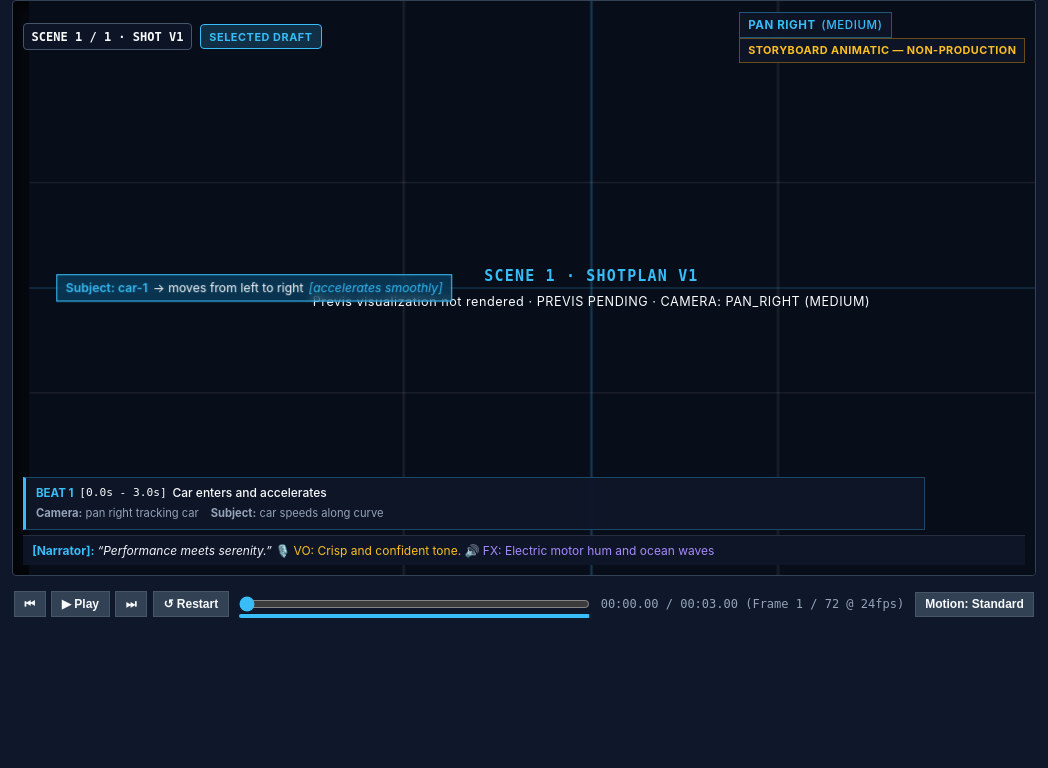
Test: CampaignAnimaticPlayer Component › toggles reduced motion mode
Click the button with test id "animatic-reduced-motion-toggle" at (974, 604), box [915, 592, 1034, 617]
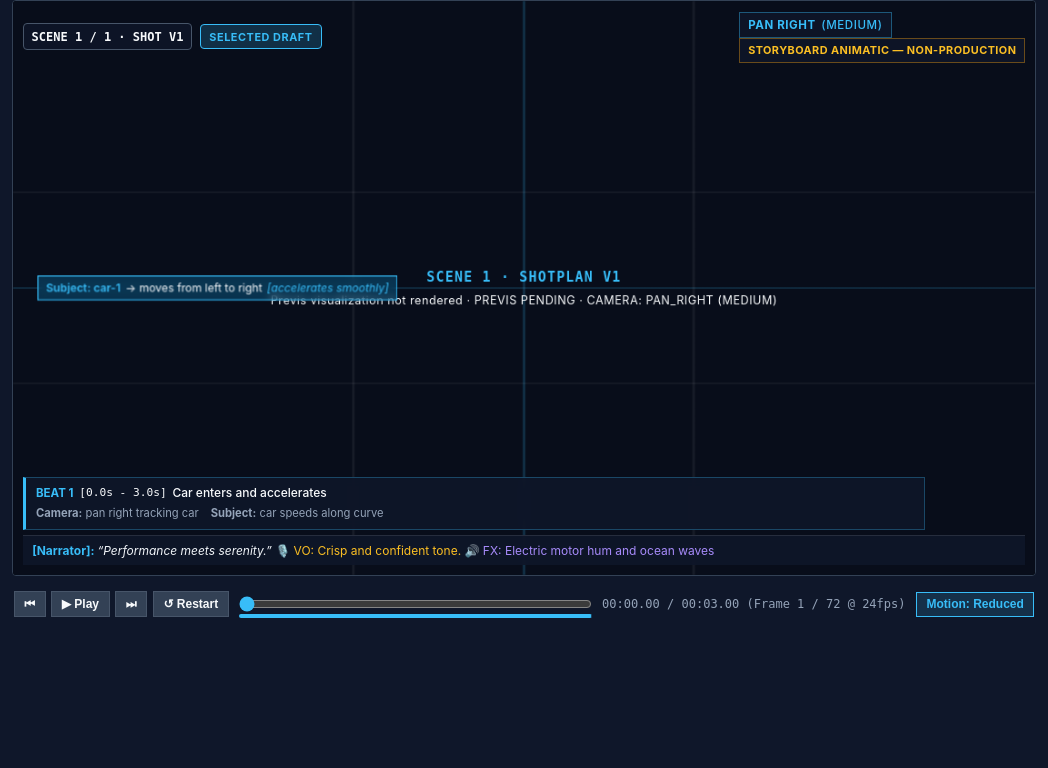
Now the button with test id "animatic-reduced-motion-toggle" reads "Motion: Reduced", box [916, 592, 1034, 617]
